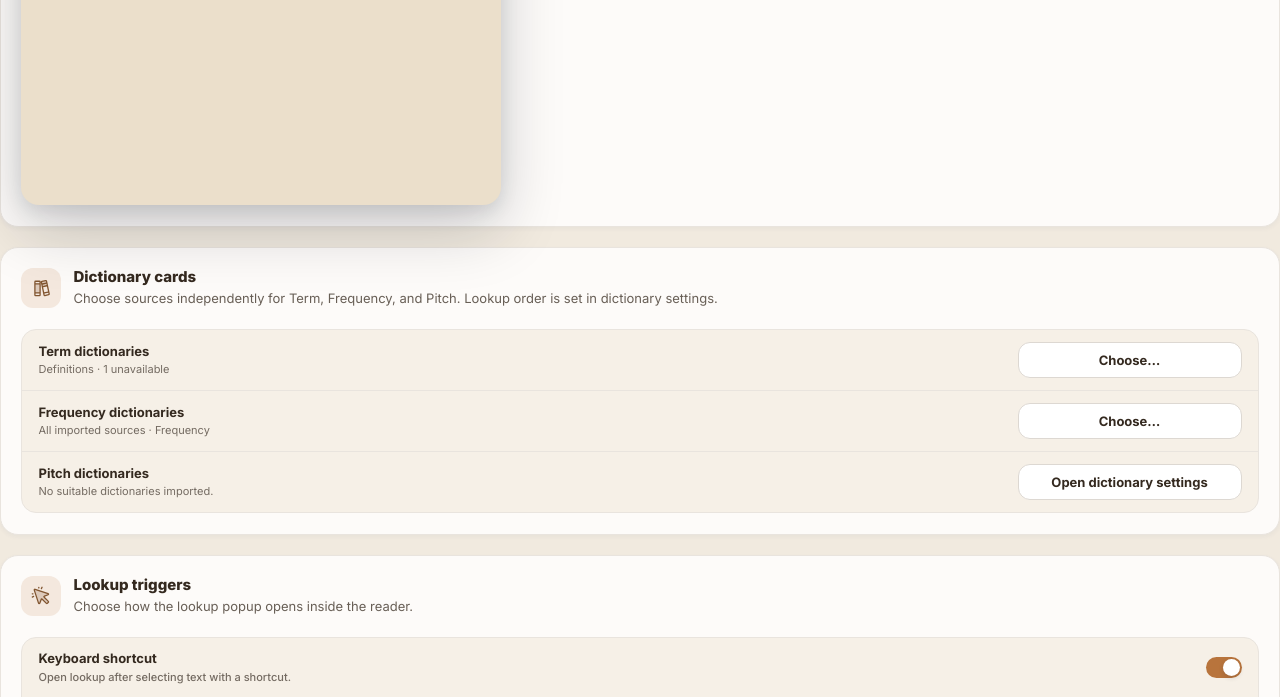
popup source policies › retains explicit unavailable IDs and ignores the retired global flag after maintenance
This screenshot has width=1280, height=697.
(page scrolled)
Expected: the text "Definitions · 1 unavailable" is shown, [38,362,170,378]
What coordinates should you click on to do the following:
click the button with aria-label "Select term dictionaries"
I would click on:
 (1130, 360)
Its box is [1018,342,1242,378].
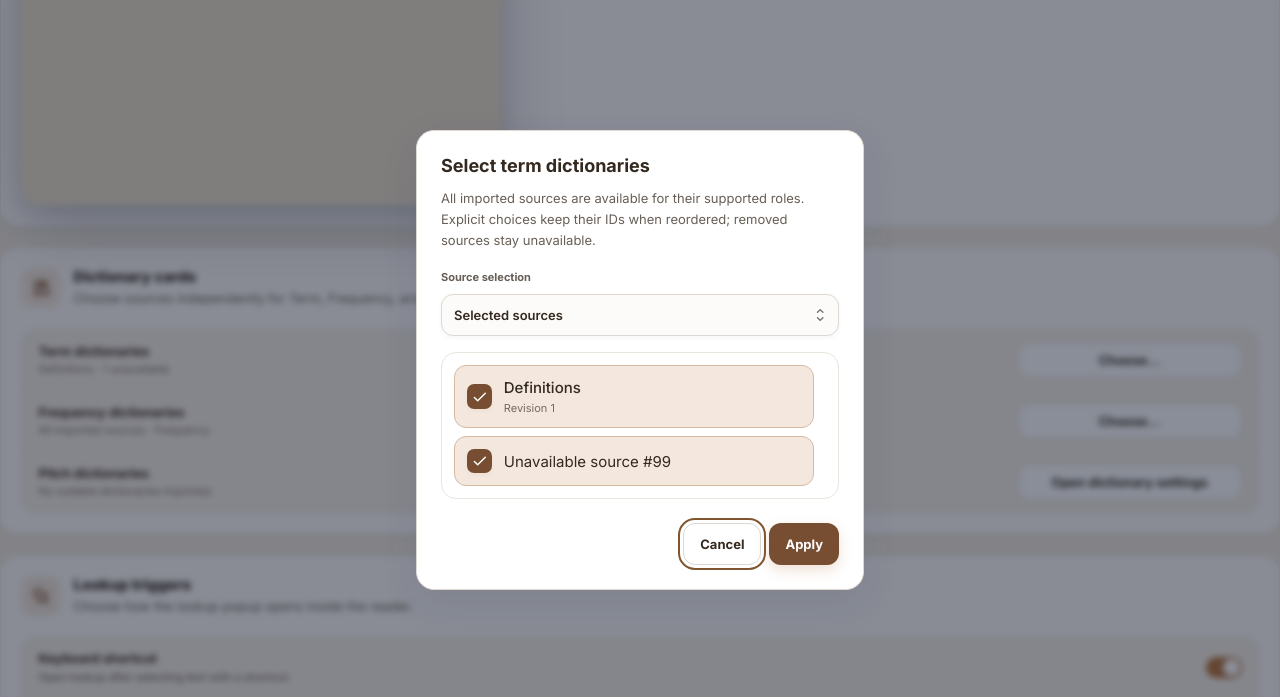
Now the checkbox labelled "Unavailable source #99" is checked, box [454,436,814,486]
Now the checkbox labelled "Definitions" is checked, box [454,365,814,428]
